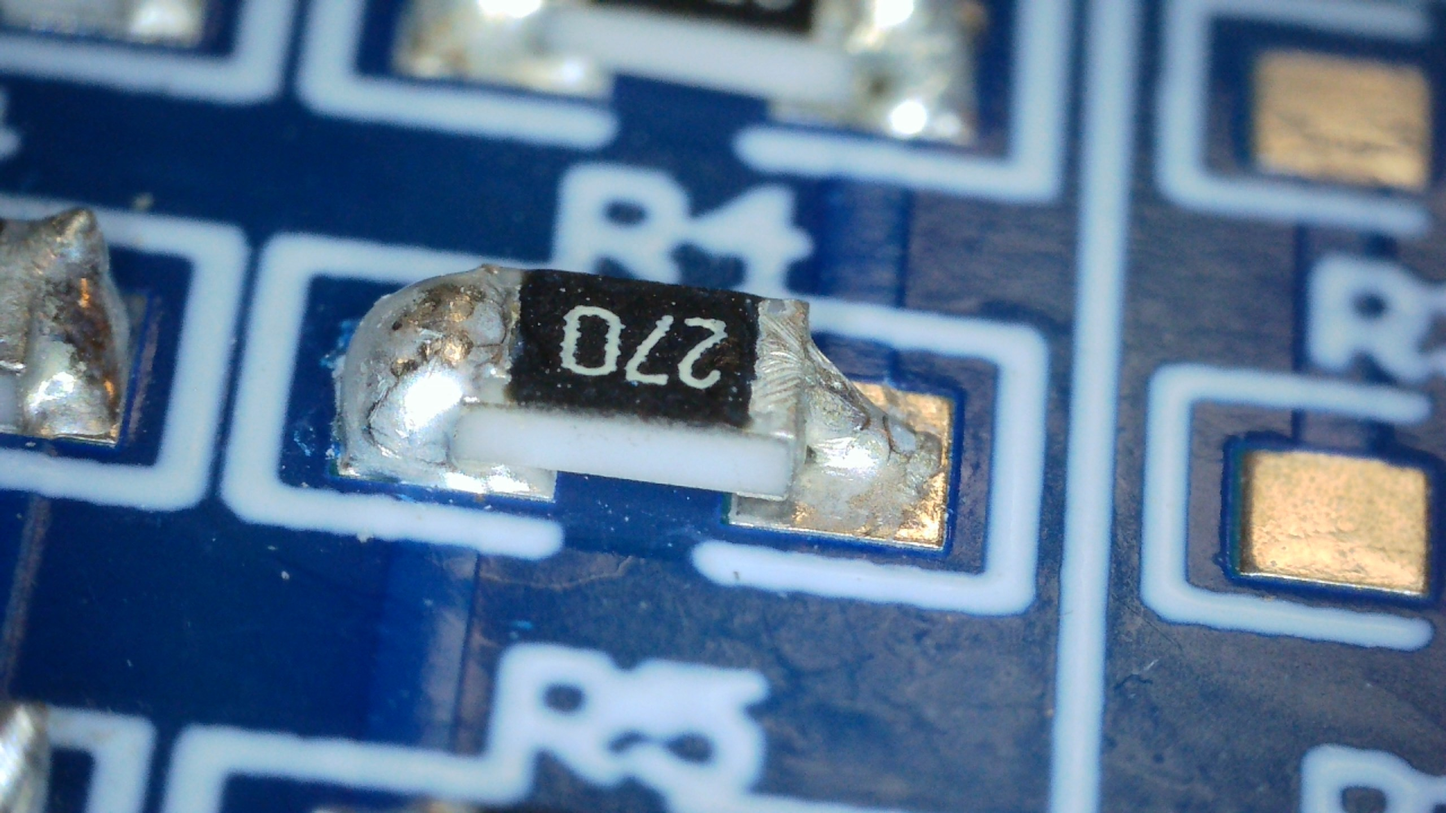NG: (747, 297, 940, 534), (340, 263, 520, 490)
